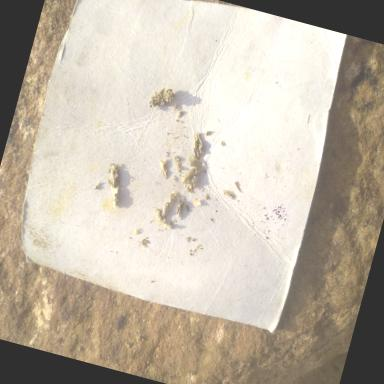pbw: (188, 130, 208, 154), (154, 158, 172, 182), (180, 168, 195, 186), (158, 201, 170, 221), (190, 142, 202, 159), (174, 200, 184, 220)
